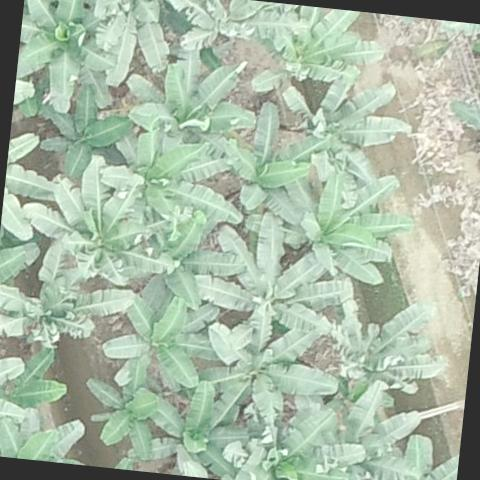Banana-plant: (189, 205, 357, 372), (14, 144, 183, 296), (244, 158, 420, 287), (194, 294, 347, 442), (96, 256, 232, 400), (272, 62, 418, 196), (94, 114, 252, 228), (118, 36, 264, 158), (220, 369, 376, 480), (287, 372, 431, 480), (328, 295, 453, 416), (247, 0, 386, 108), (12, 0, 128, 121), (215, 92, 317, 223), (132, 372, 254, 480), (138, 202, 247, 309), (34, 75, 136, 182), (76, 346, 168, 460), (0, 272, 102, 353), (0, 334, 68, 437), (159, 0, 269, 61)
